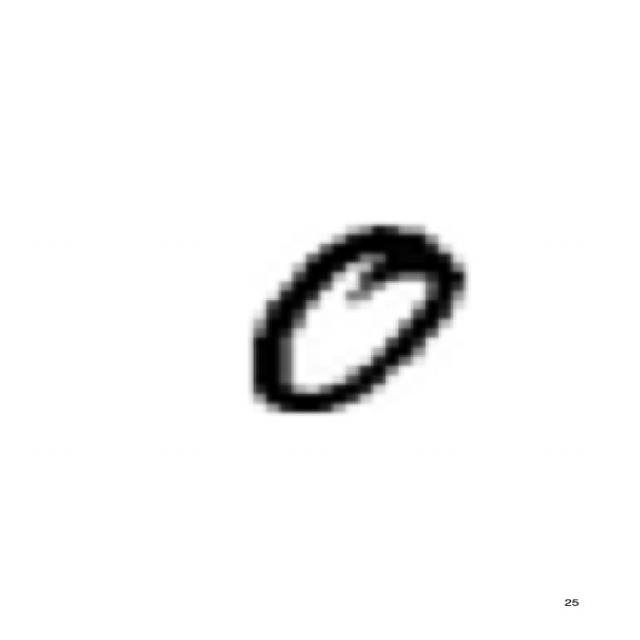5 -five-: (240, 213, 478, 419)
